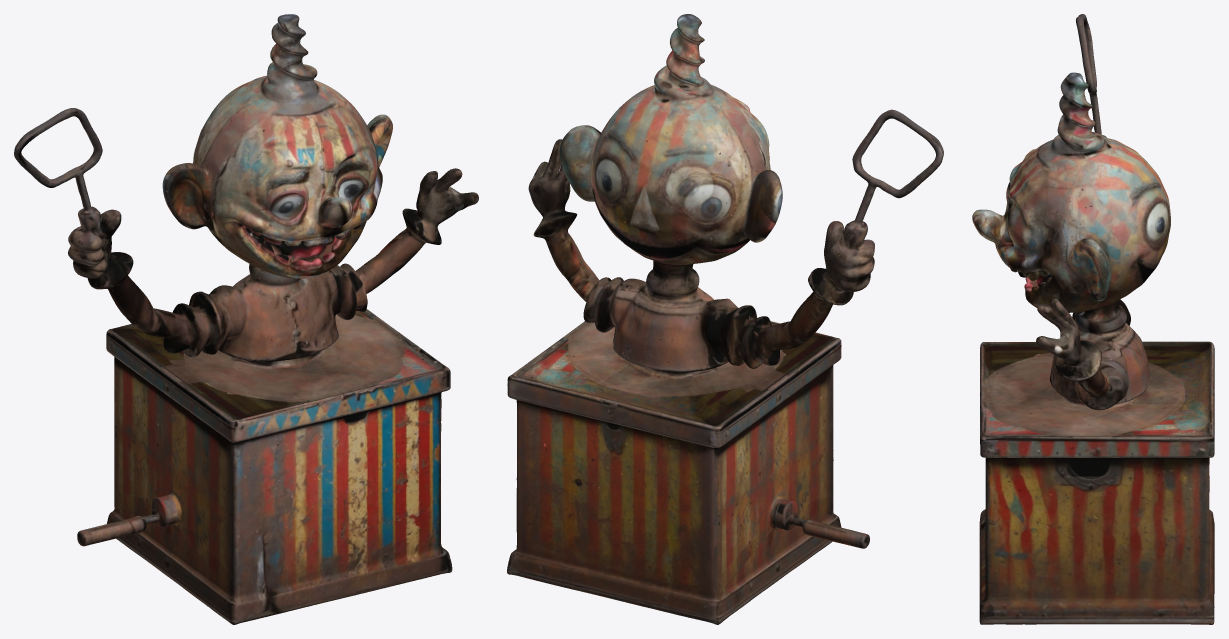
File: jack-in-the-box-real-cc0.glb
3 renders of one model, left to right at view 1: azimuth 30°, elevation 25°; view 2: azimuth 150°, elevation 25°; view 3: azimuth 270°, elevation 25°, orthographic. The views are drawn at different scales.
Size of the model in its own units: 1.69 by 2.01 by 0.8826.
1 material, 1 textured.
